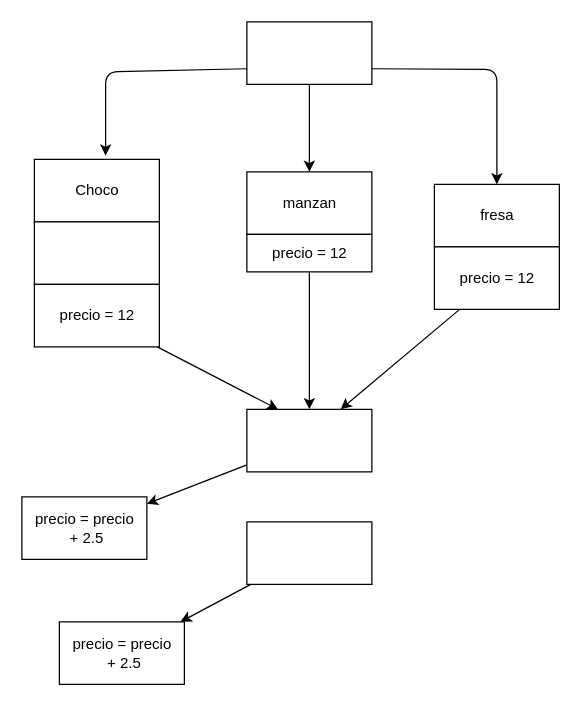
Image size: 581x706. Some labels were removed from this diagram. Each missing label, with the centre of its shape:
"B or N" goes at (96,252).
"C or M or F" goes at (309,52).
"nata S or N" goes at (309,440).
"nombre S or N" goes at (309,552).
